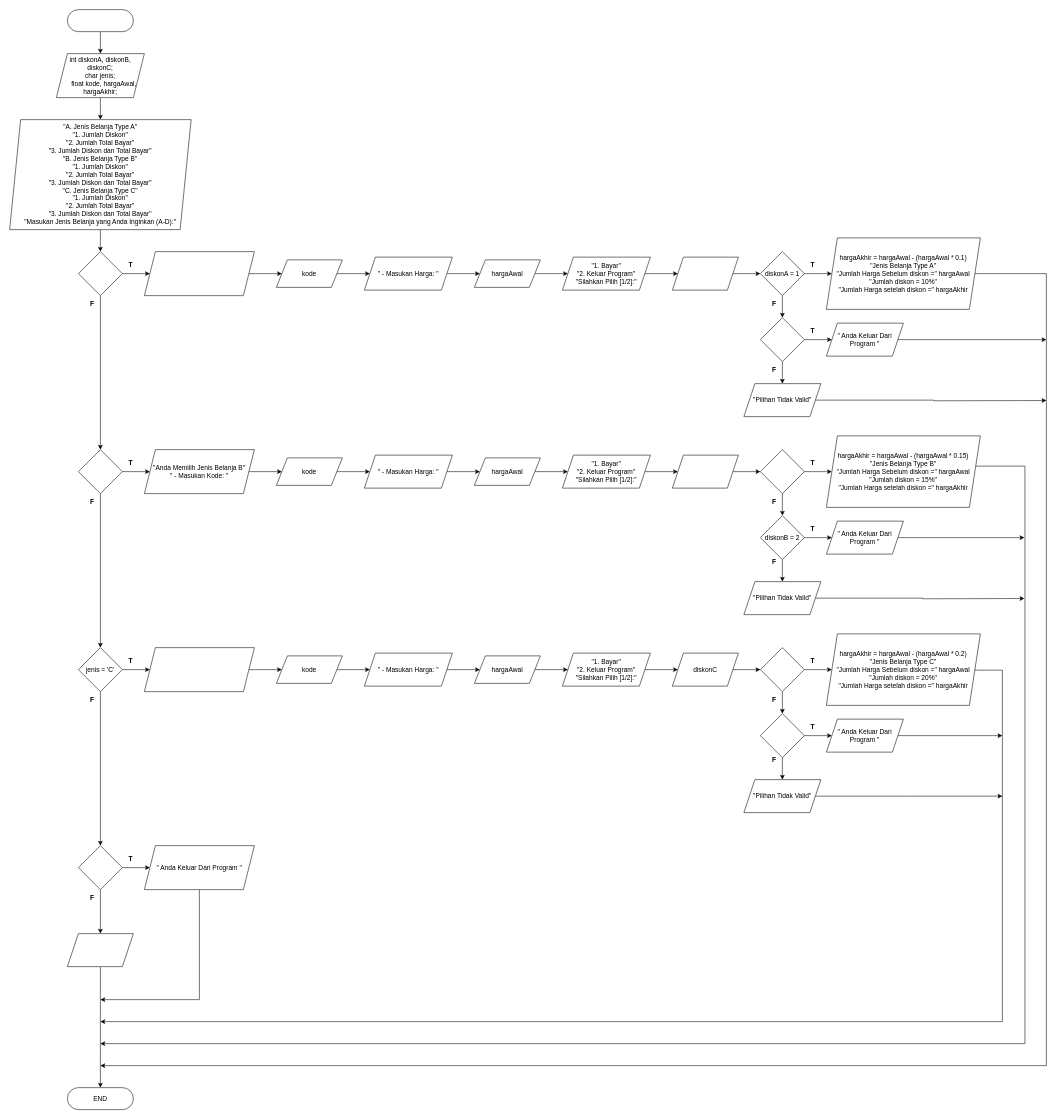
Image size: 1060x1119. Some labels were removed from this diagram. The centre of each missing label's shape, as x and y in pixels:
" Diskon Tidak Dihitung ": (x=100, y=950)
"Anda Memilih Jenis Belanja A" " - Masukan Kode: ": (x=199, y=273)
"Anda Memilih Jenis Belanja C" " - Masukan Kode: ": (x=199, y=669)
diskonA: (x=705, y=273)
diskonA = 2: (x=782, y=339)
diskonB: (x=705, y=471)
diskonB = 1: (x=782, y=471)
diskonC = 1: (x=782, y=669)
diskonC = 2: (x=782, y=735)
jenis = 'A': (x=100, y=273)
jenis = 'B': (x=100, y=471)
jenis = 'D': (x=100, y=867)
START: (x=100, y=20)
